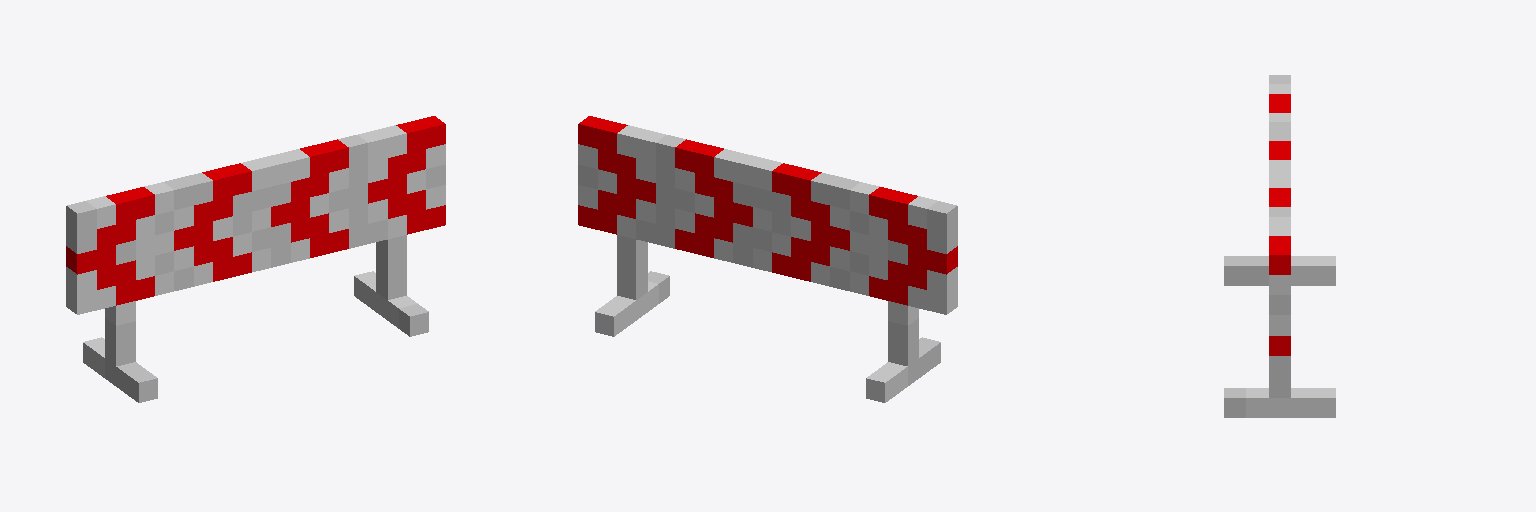
3 views of the same model, side by side, from view 1: azimuth 30°, elevation 25°; view 2: azimuth 150°, elevation 25°; view 3: azimuth 270°, elevation 25° (orthographic).
Visible parts, largest first — view 1: object 1; view 2: object 1; view 3: object 1.
Boxes of the visible parts, <box> form: object 1: <box>66,116,445,402</box>; object 1: <box>578,116,957,402</box>; object 1: <box>1224,75,1335,417</box>.
Bounding box in the file's own units: 1.9 × 0.9 × 0.5.
1 materials, 1 textured.